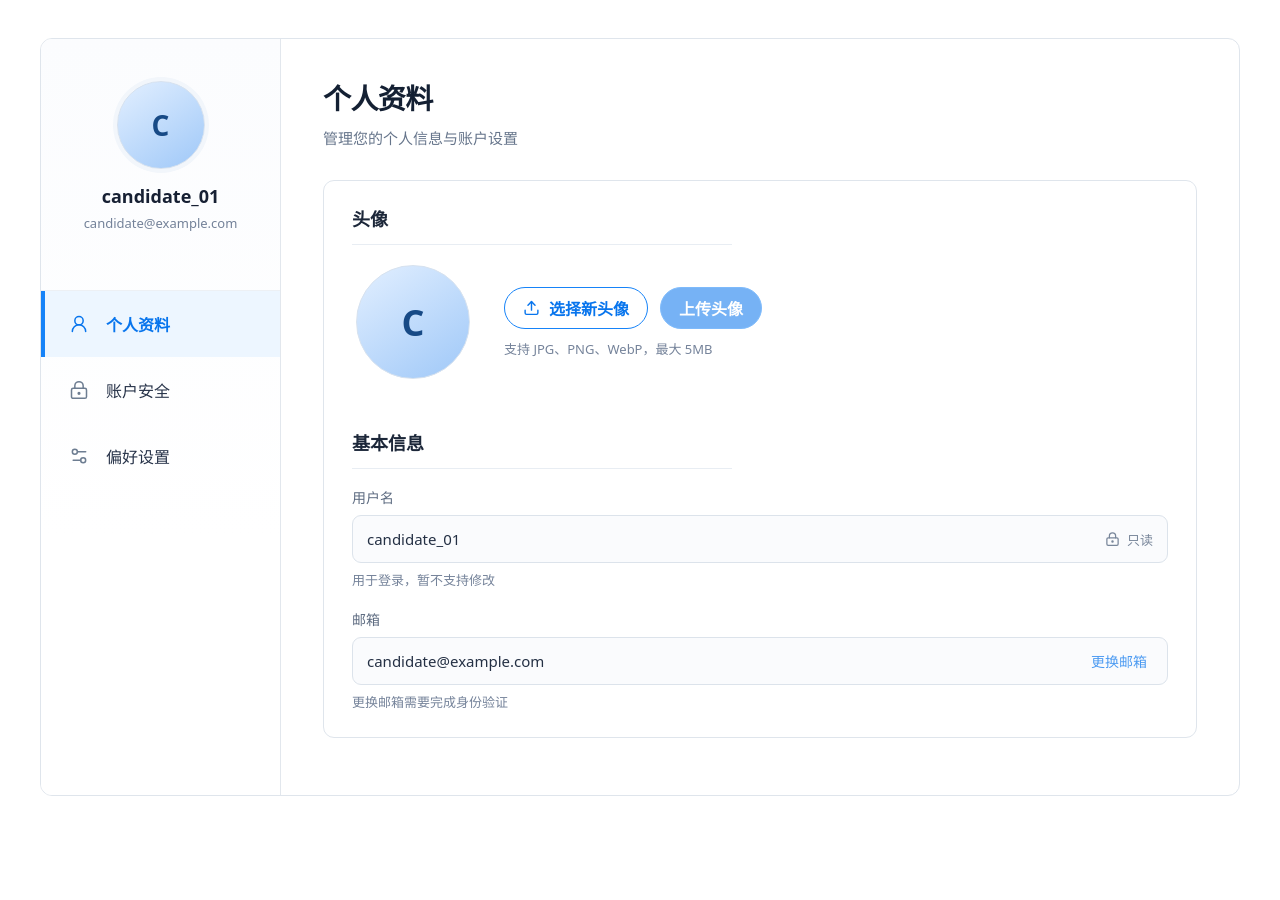
Scenario: ProfileCenter › validates password confirmation and unchanged passwords before submitting
Click the button "账户安全" at (160, 390), box [41,357,280,423]
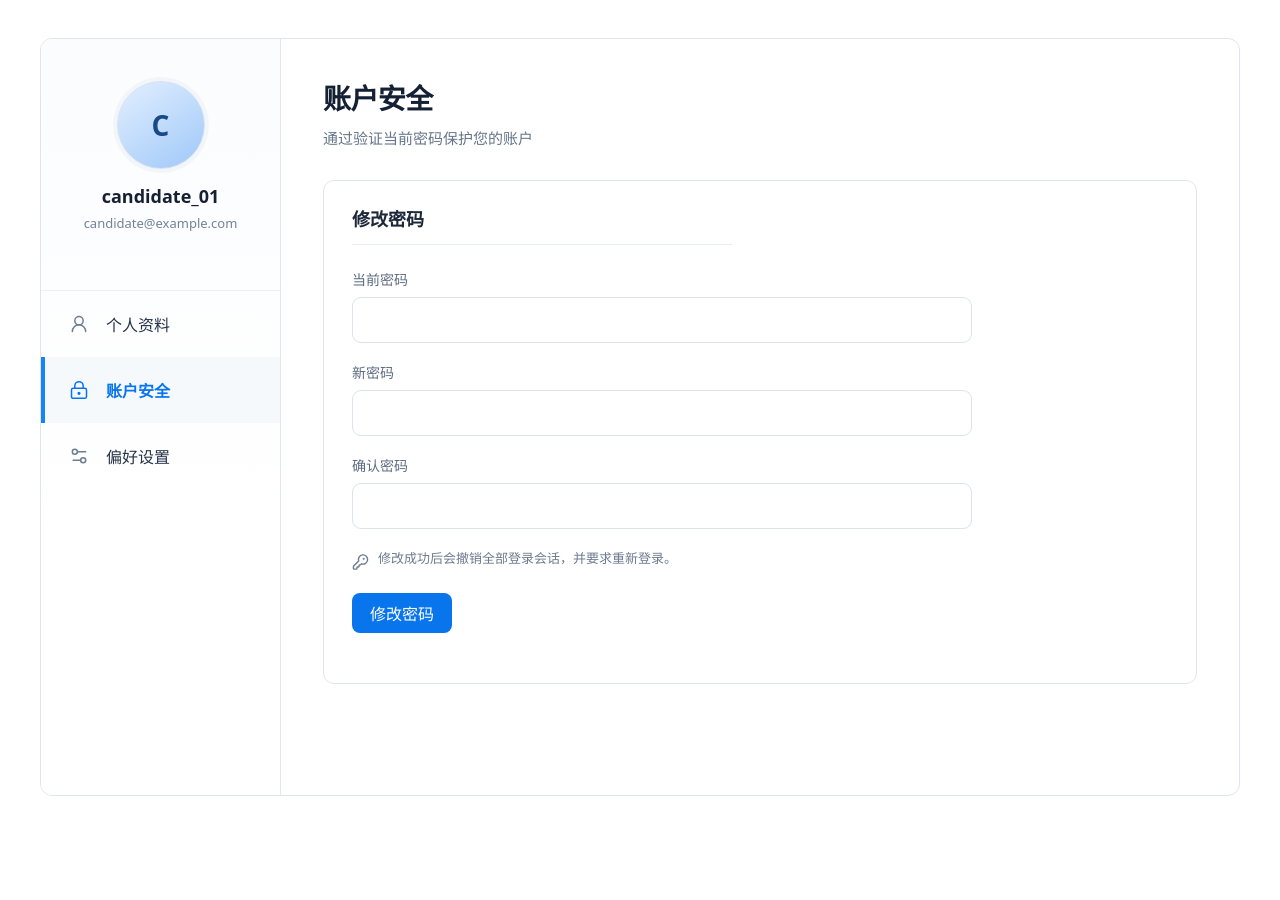
Type "current-password" into the password field labelled "当前密码" at (662, 320), box [352,297,972,343]
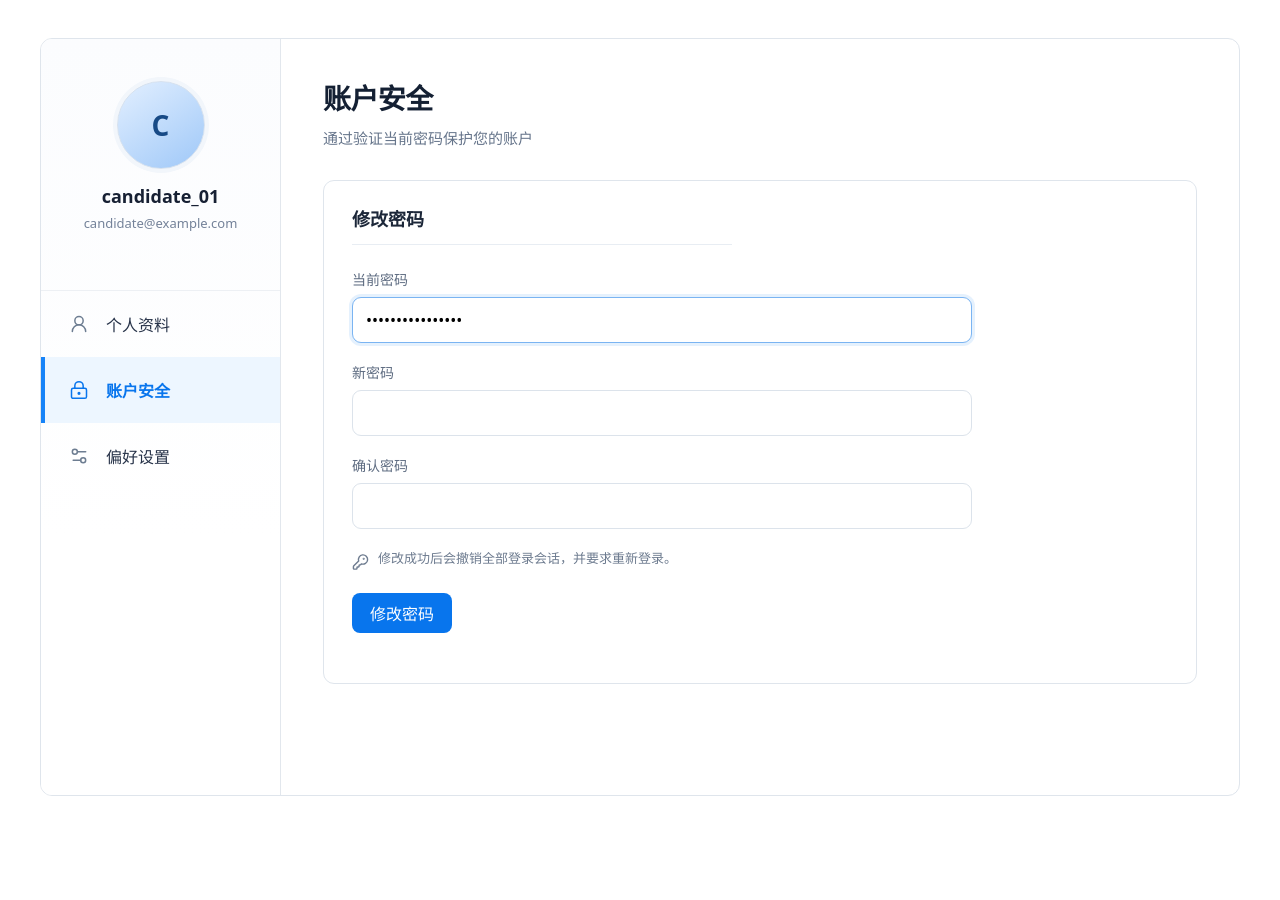
Type "new-password" into the password field labelled "新密码" at (662, 413), box [352,390,972,436]
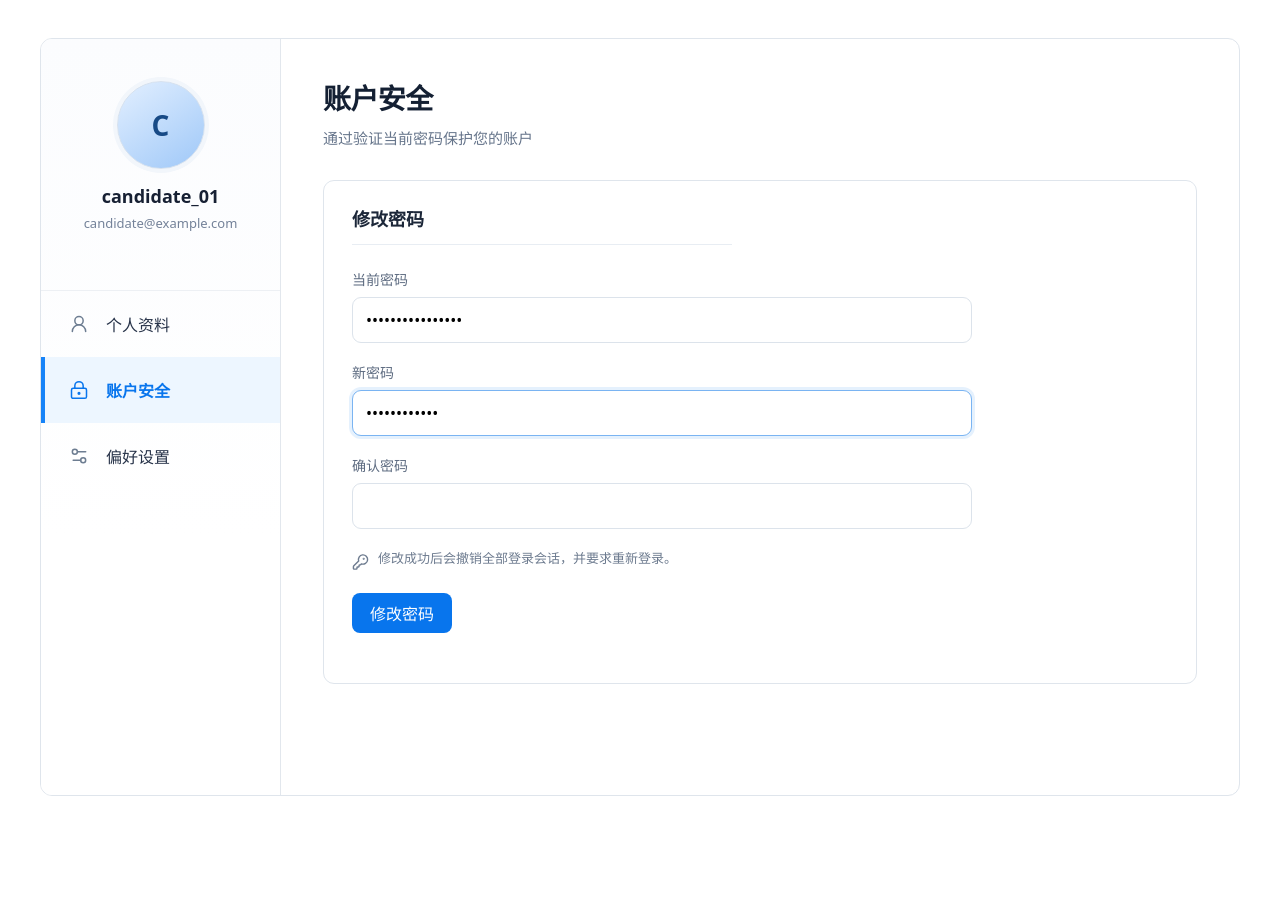
Type "different-password" into the password field labelled "确认密码" at (662, 506), box [352,483,972,529]
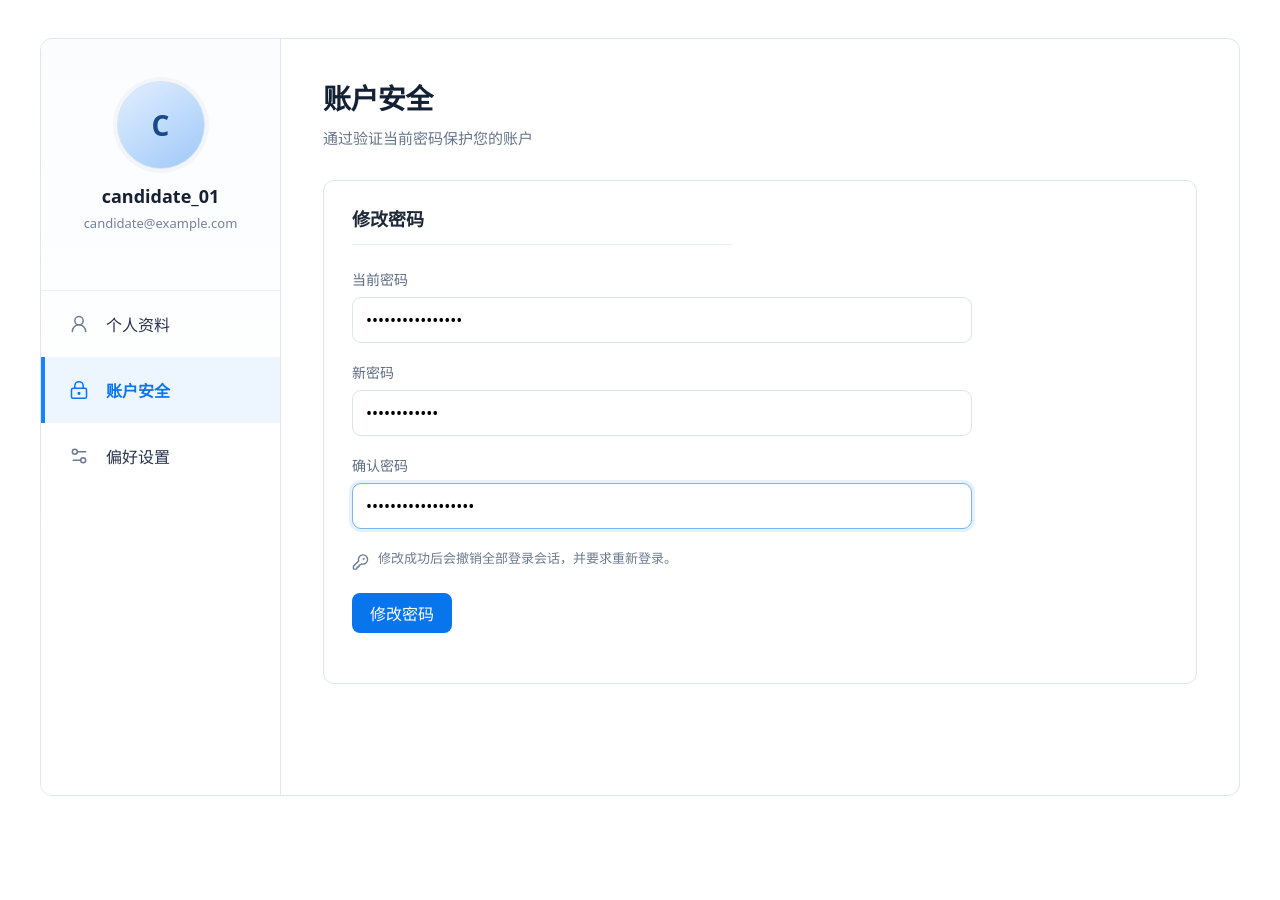
Click the button "修改密码" at (402, 613), box [352,593,452,633]
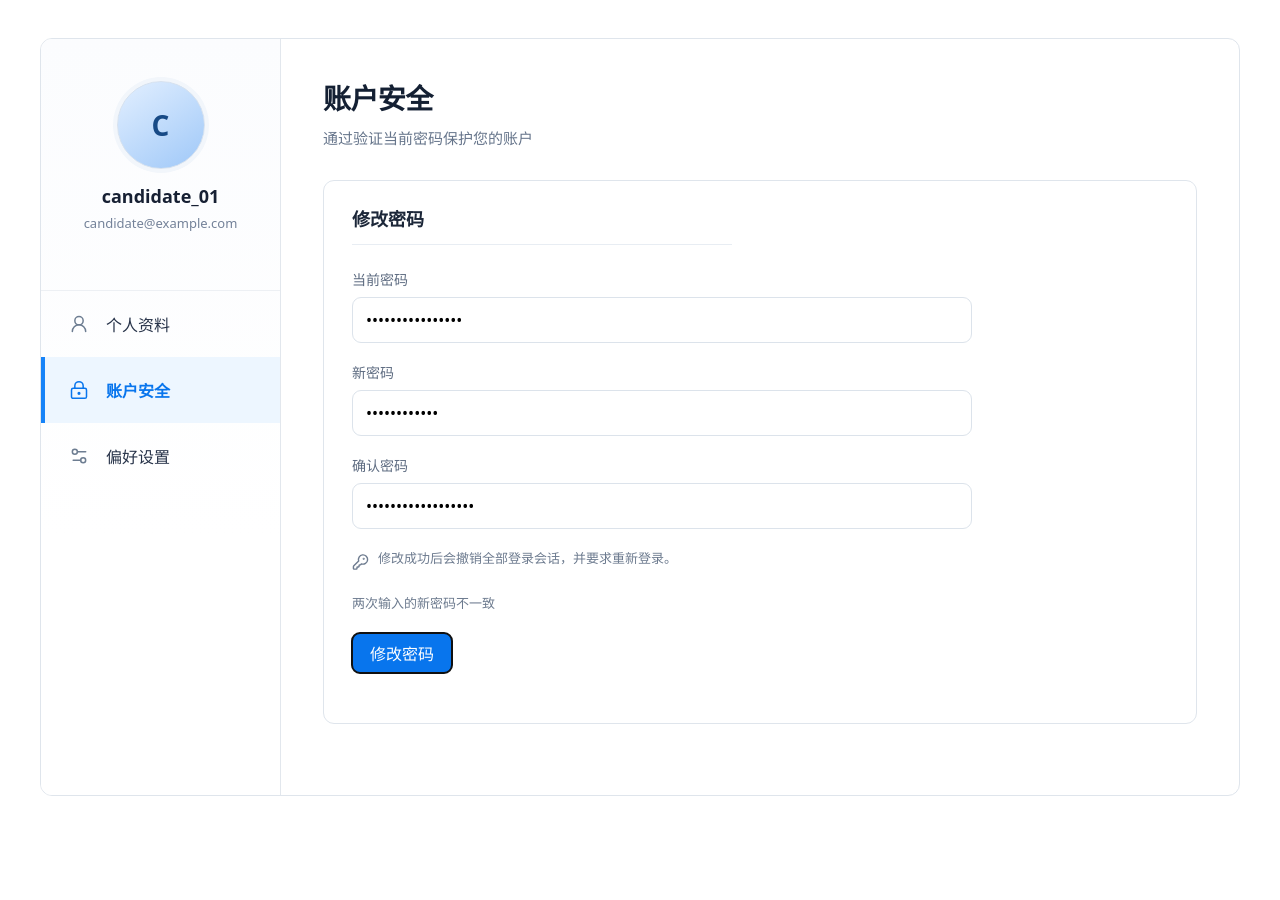
Expected: the message reads "两次输入的新密码不一致", [352,594,495,612]
